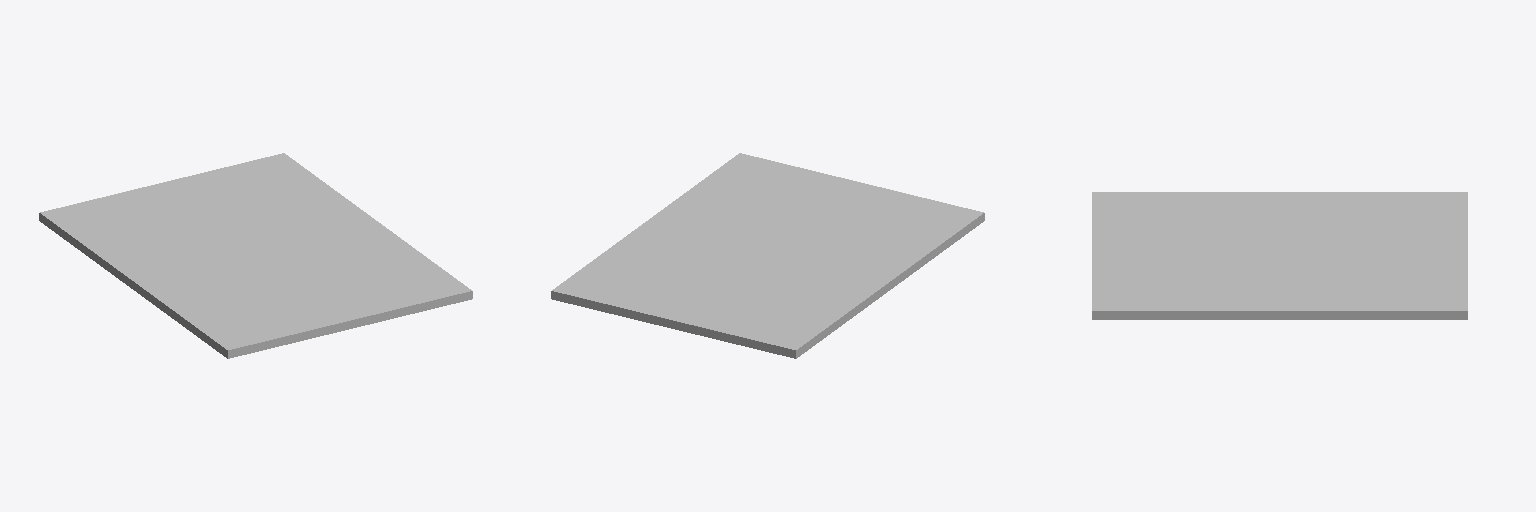
Rendered from stage1.obj.
The picture shows the model from 3 angles: view 1: azimuth 30°, elevation 25°; view 2: azimuth 150°, elevation 25°; view 3: azimuth 270°, elevation 25°; orthographic projection.
Parts seen in each view (by area): view 1: Cube_Cube.002; view 2: Cube_Cube.002; view 3: Cube_Cube.002.
Part boxes in pixels (bbox=[...]): Cube_Cube.002: bbox=[39, 153, 472, 358]; Cube_Cube.002: bbox=[551, 153, 984, 358]; Cube_Cube.002: bbox=[1092, 192, 1467, 319].
Bounding box in the file's own units: 60 × 2 × 80.